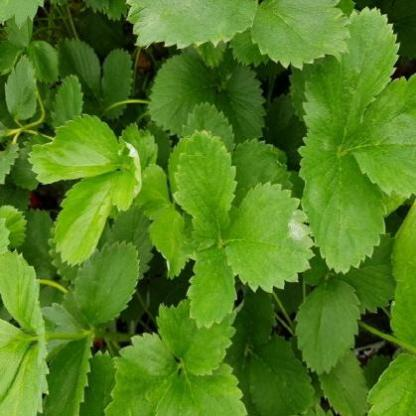Strawberry_Powdery_Mildew_Leaf: (224, 180, 317, 292), (109, 141, 143, 212)
